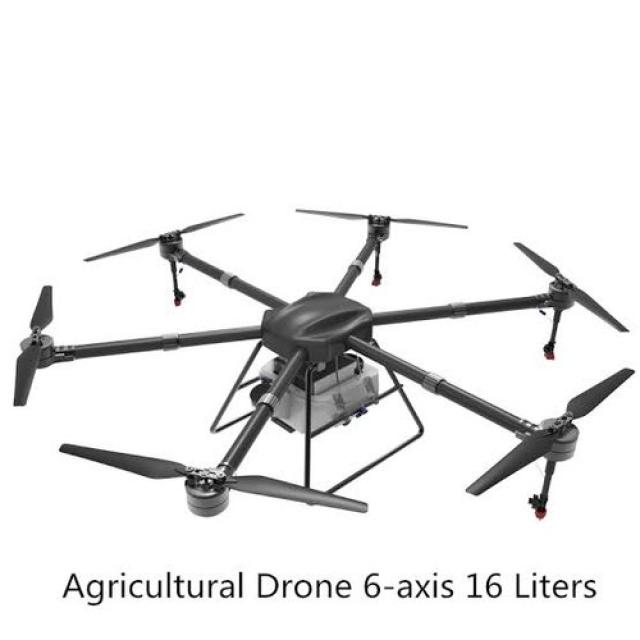drone: (0, 176, 640, 565)
